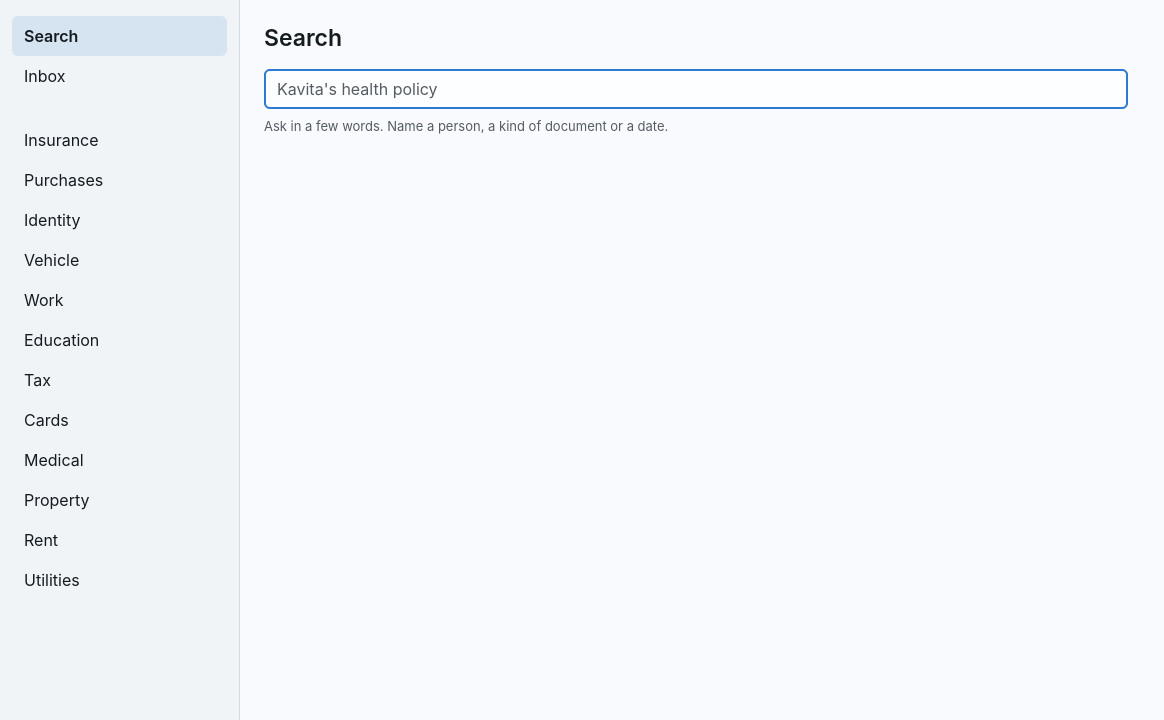
Test: a list from a prompt › a change that fails says so and leaves the list as it was
Type "health policies that expire" into the dropdown named "Ask about your documents" at (696, 89), box [264,69,1128,109]
Wait 600 ms
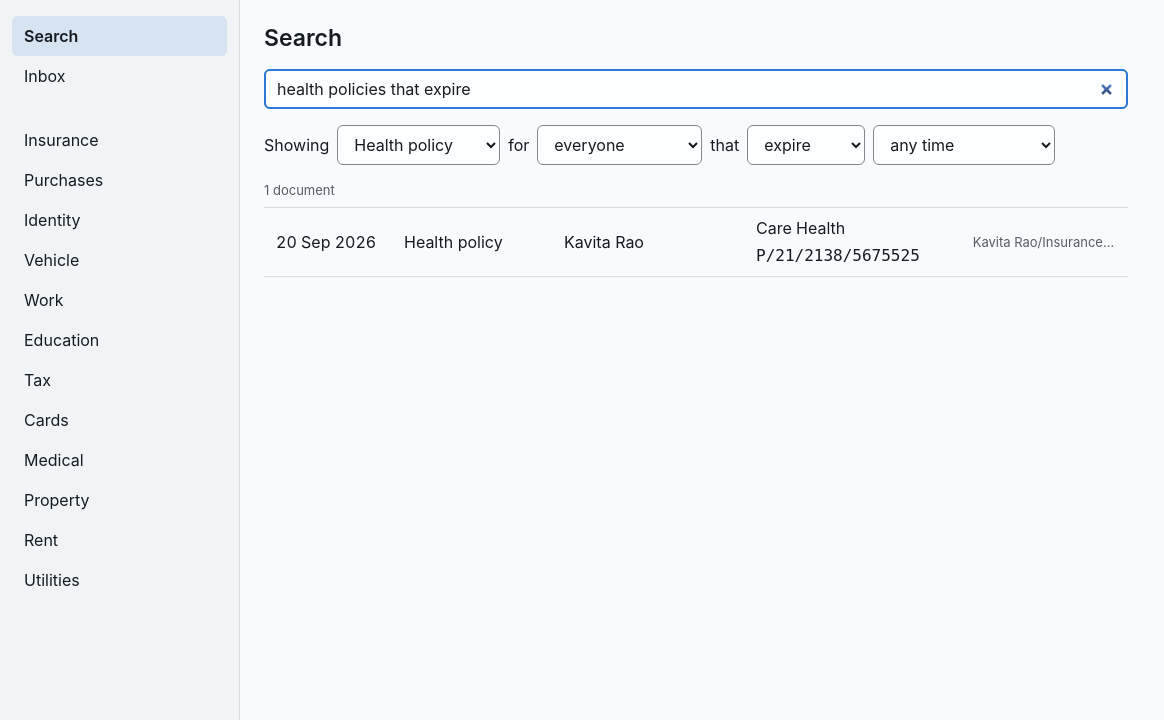
Select "Kavita Rao" in the dropdown named "Person" at (620, 145), box [537,125,702,165]
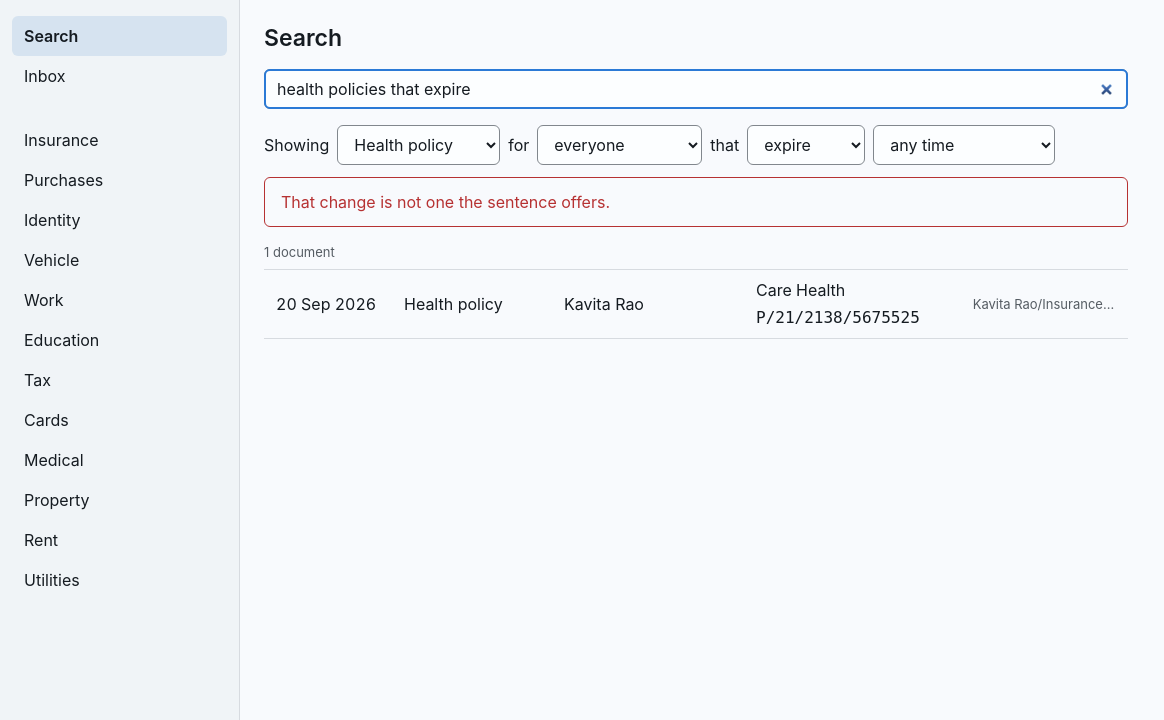
Result: the message reads "That change is not one the sentence offers." at [281,192,610,212]
